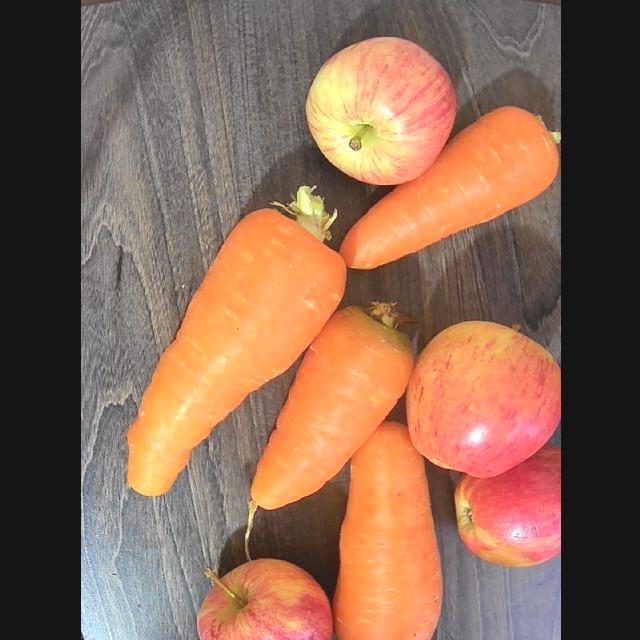manzana: (406, 321, 560, 477), (306, 37, 455, 184), (454, 445, 560, 567), (197, 559, 332, 639)
zanahoria: (127, 188, 345, 495), (340, 107, 560, 268), (251, 306, 413, 508), (333, 422, 442, 639)
